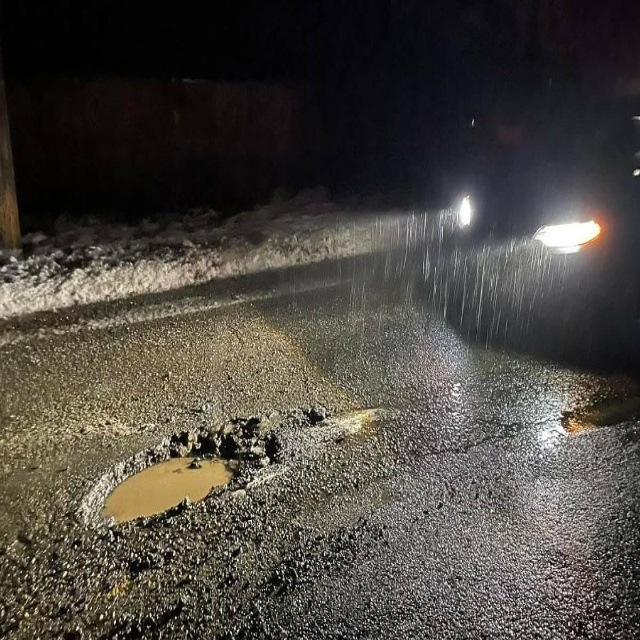pothole: (102, 454, 236, 523), (561, 375, 640, 433)
